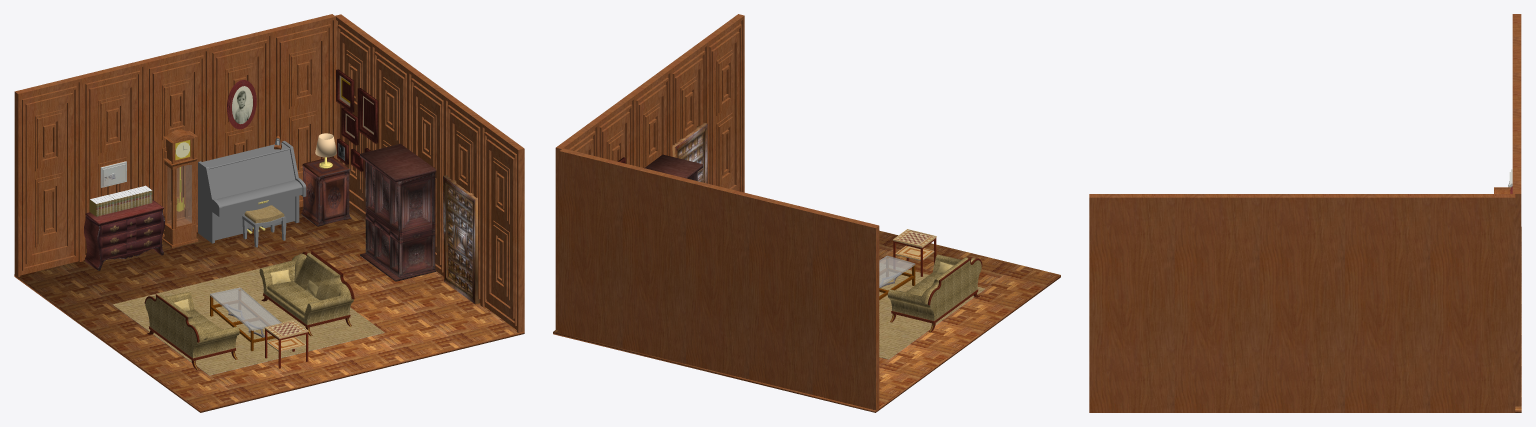
The model's file is main_room.glb.
3 views of the same model, side by side, from view 1: azimuth 30°, elevation 25°; view 2: azimuth 150°, elevation 25°; view 3: azimuth 270°, elevation 25° (orthographic). The views are drawn at different scales.
Visible parts, largest first — view 1: Material2 (×13), Material3 (×15); view 2: Material2 (×4), Material3 (×5); view 3: Material2.
Boxes of the visible parts, box(x1,y1,x2,y2) form: Material2 (×13): box(14, 14, 524, 412); Material3 (×15): box(18, 69, 517, 410); Material2 (×4): box(553, 14, 1060, 412); Material3 (×5): box(553, 123, 1060, 410); Material2: box(1089, 14, 1521, 412).
Size of the model in its own units: 282 by 154 by 280.
Materials: 70 (47 with a texture image).
